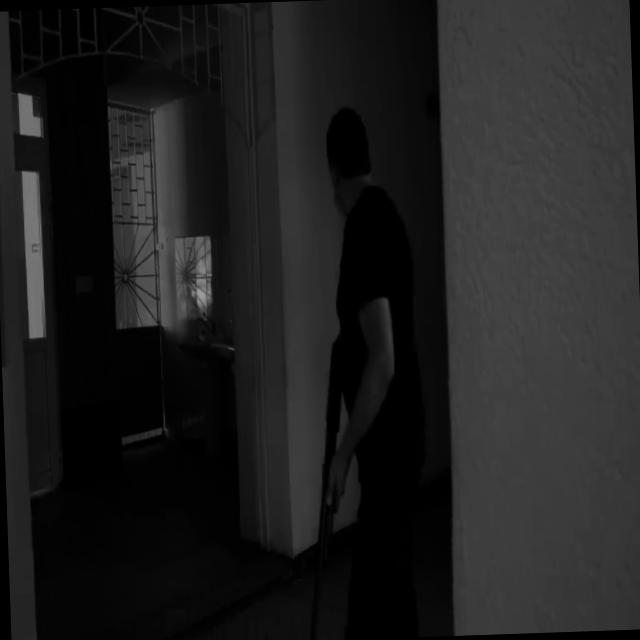gun: (297, 329, 354, 640)
person with a gun: (288, 102, 433, 640)
